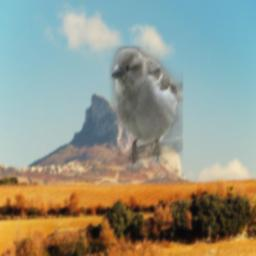Sparrow: (110, 48, 183, 168)
